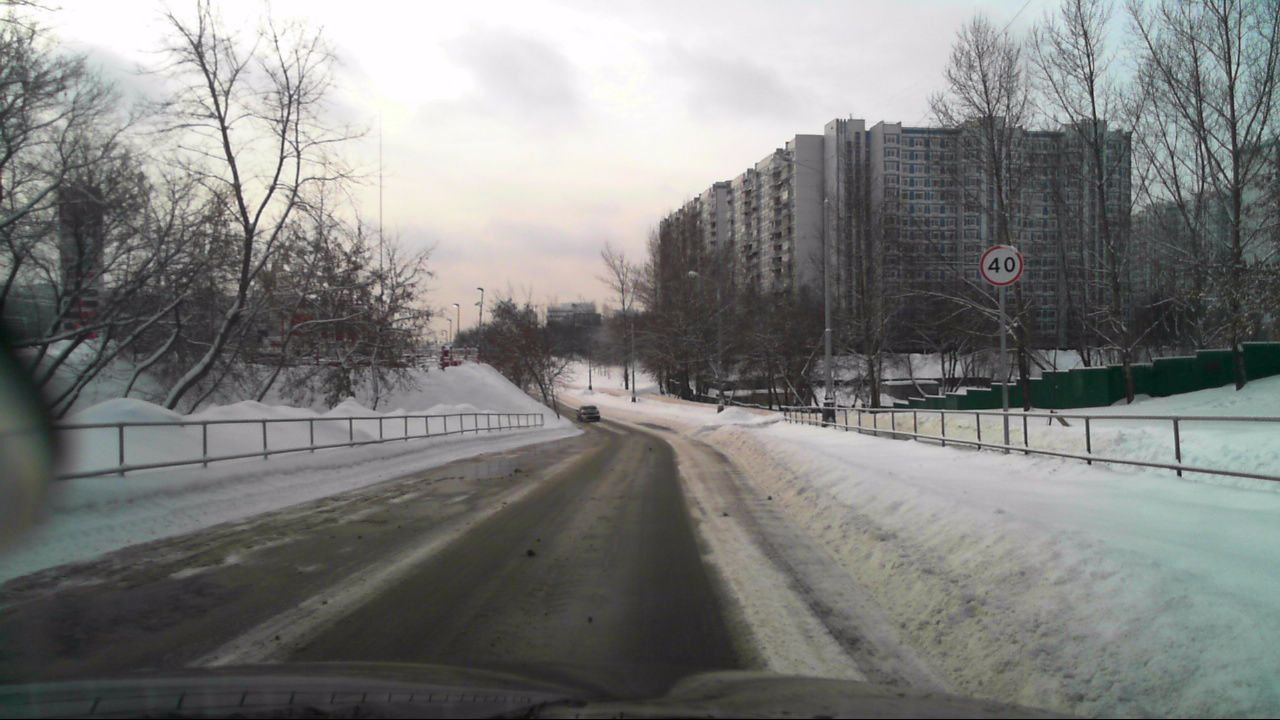speed_warning_40: (979, 243, 1023, 288)
